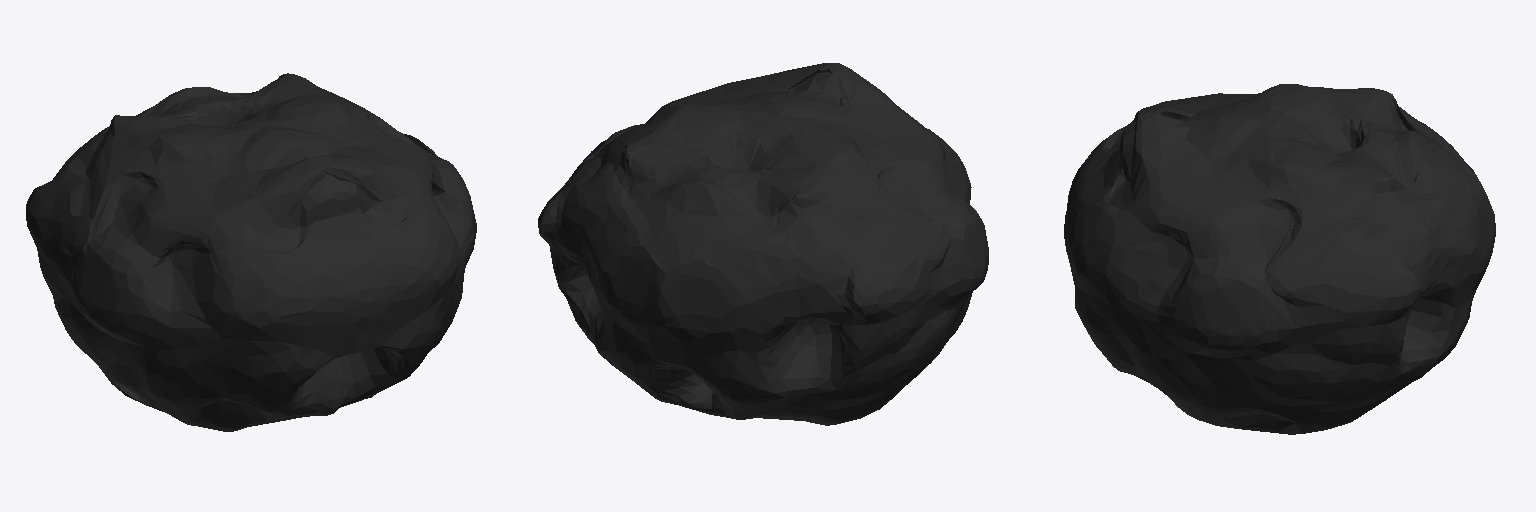
Rendered from asteroid.obj.
3 views of the same model, side by side, from view 1: azimuth 30°, elevation 25°; view 2: azimuth 150°, elevation 25°; view 3: azimuth 270°, elevation 25° (orthographic).
Visible parts, largest first — view 1: Icosphere_Icosphere.001; view 2: Icosphere_Icosphere.001; view 3: Icosphere_Icosphere.001.
Boxes of the visible parts, x1=… form: Icosphere_Icosphere.001: x1=26, y1=73, x2=476, y2=431; Icosphere_Icosphere.001: x1=538, y1=63, x2=988, y2=425; Icosphere_Icosphere.001: x1=1064, y1=84, x2=1495, y2=434.
Size of the model in its own units: 6.08 by 4.34 by 5.92.